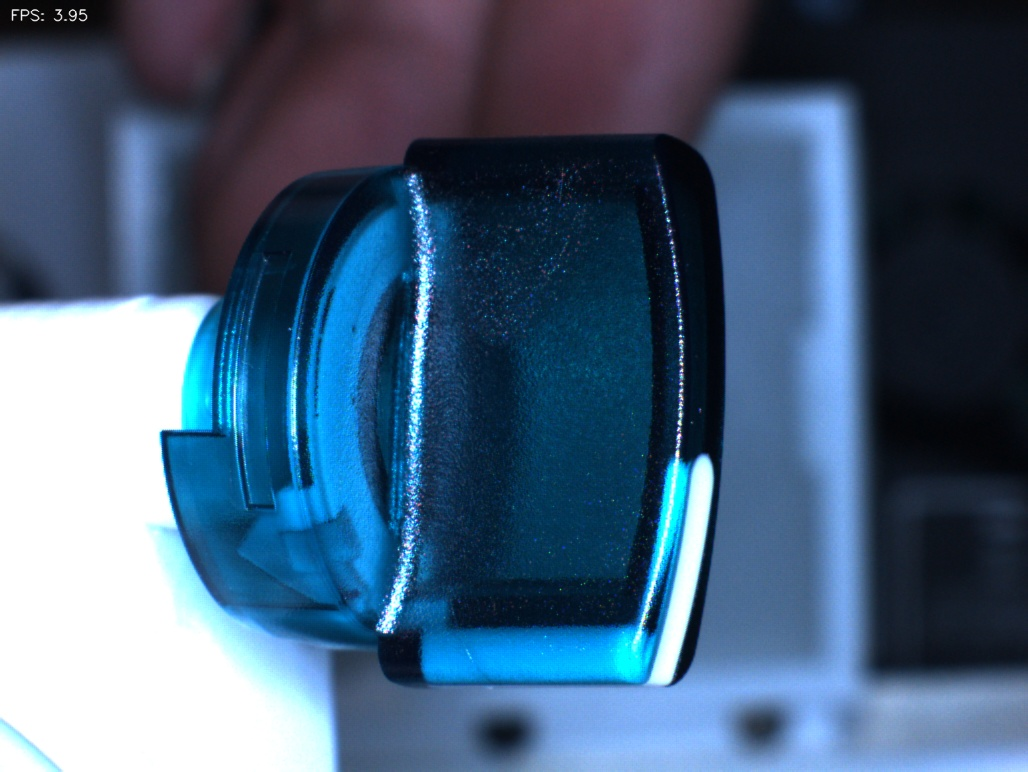PointNoir: (328, 297, 382, 360)
